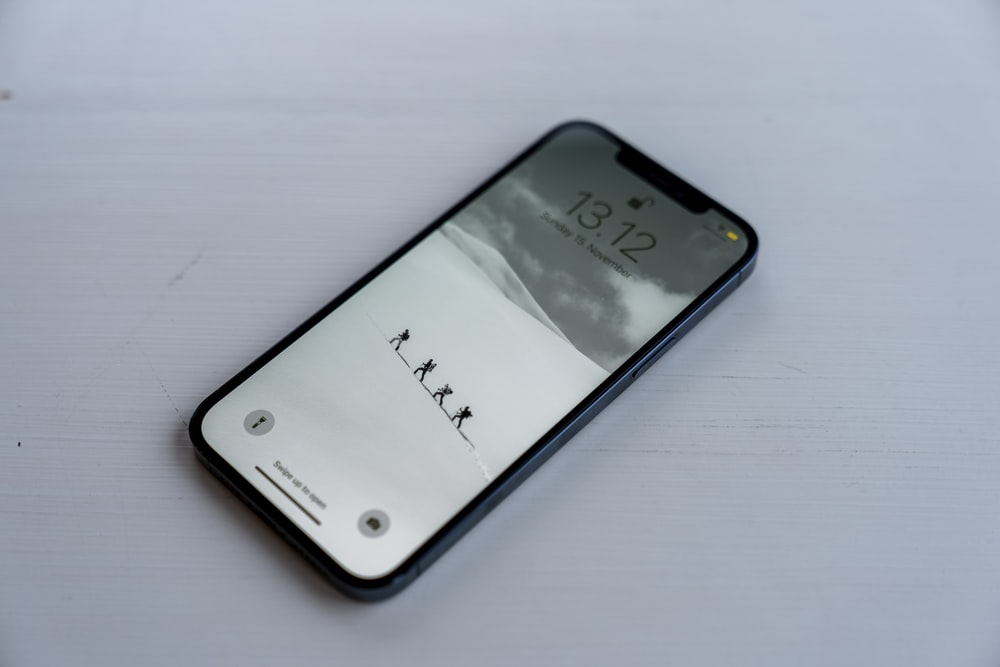Cell Phone: (206, 131, 747, 573)
